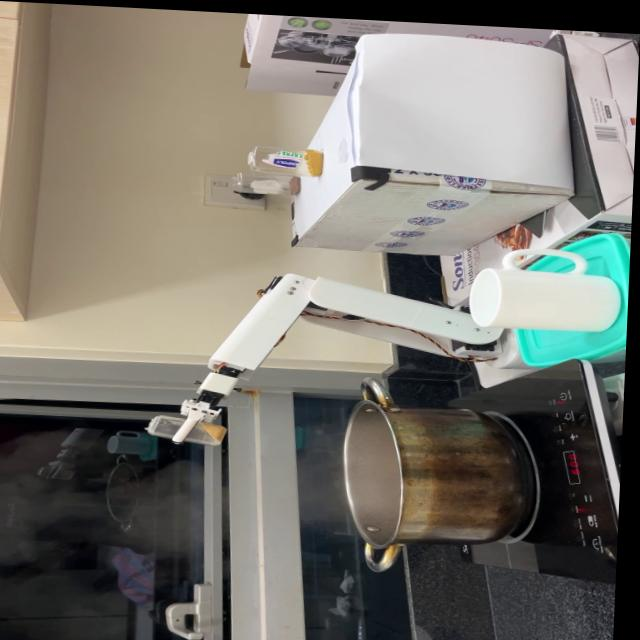cooking_pot: (340, 366, 533, 565)
curry_powder: (303, 145, 327, 170)
garlic_powder: (199, 418, 231, 441)
maggie_open: (288, 171, 303, 190)
